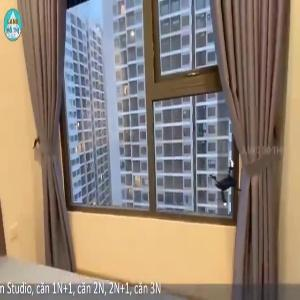drone: (198, 157, 254, 213)
